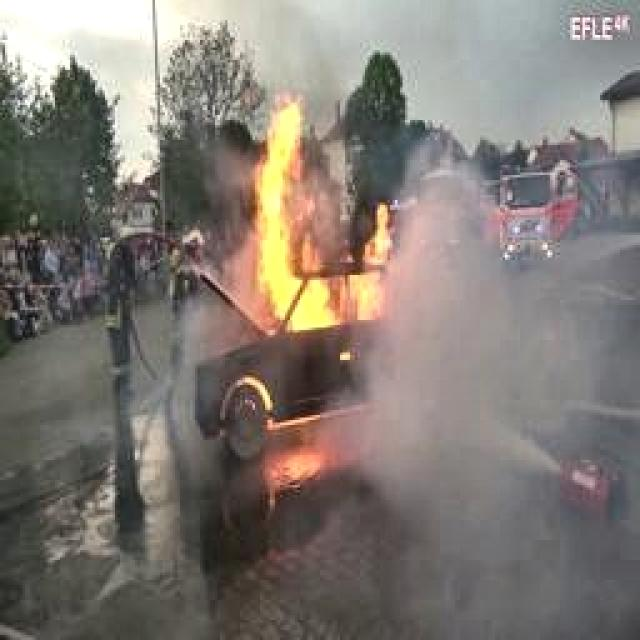fire: (195, 100, 420, 470)
